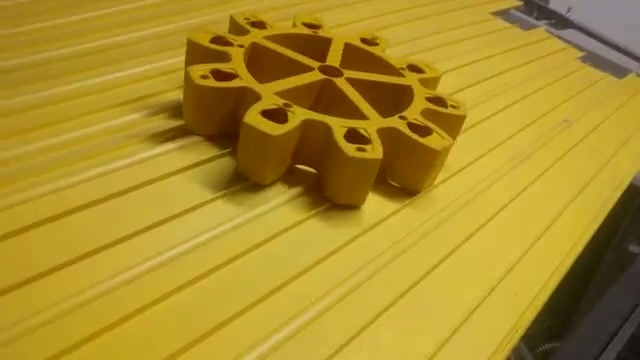gear: (180, 1, 481, 212)
